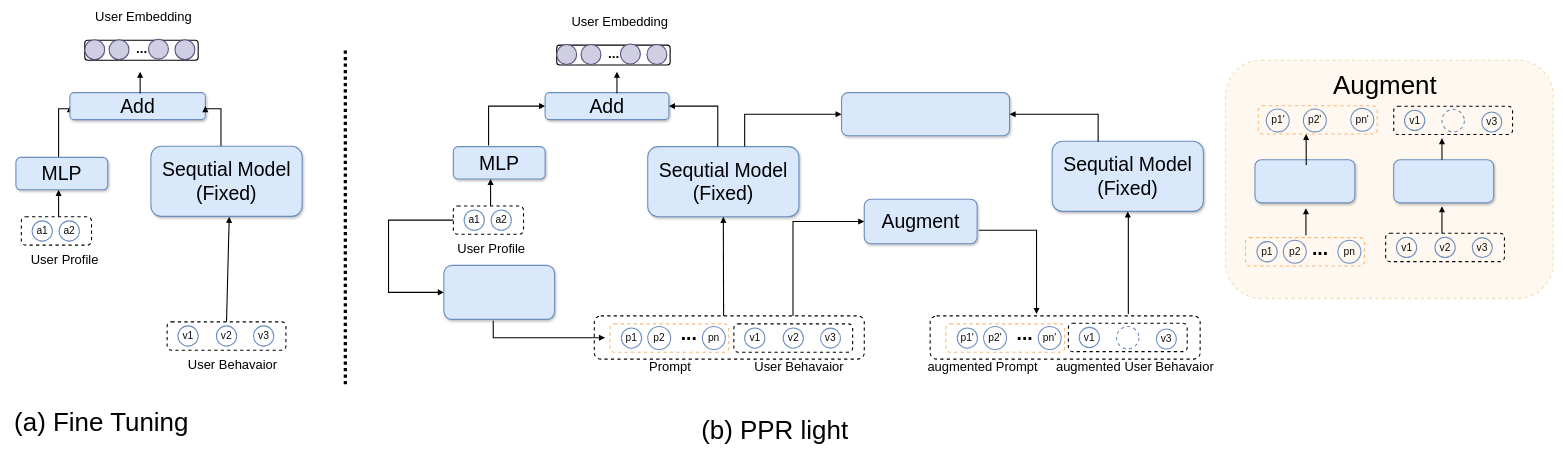
The diagram is 1563 pixels wide and 455 high, and some of its shapes have lost their labels. The shapes that lost their labels are listed below. From the top down, each one's centre as x and y in pixels, then its label:
point 926,115: Contrastive
point 1305,182: Dropout
point 1444,182: Random mask
point 499,292: Prompt Generator
